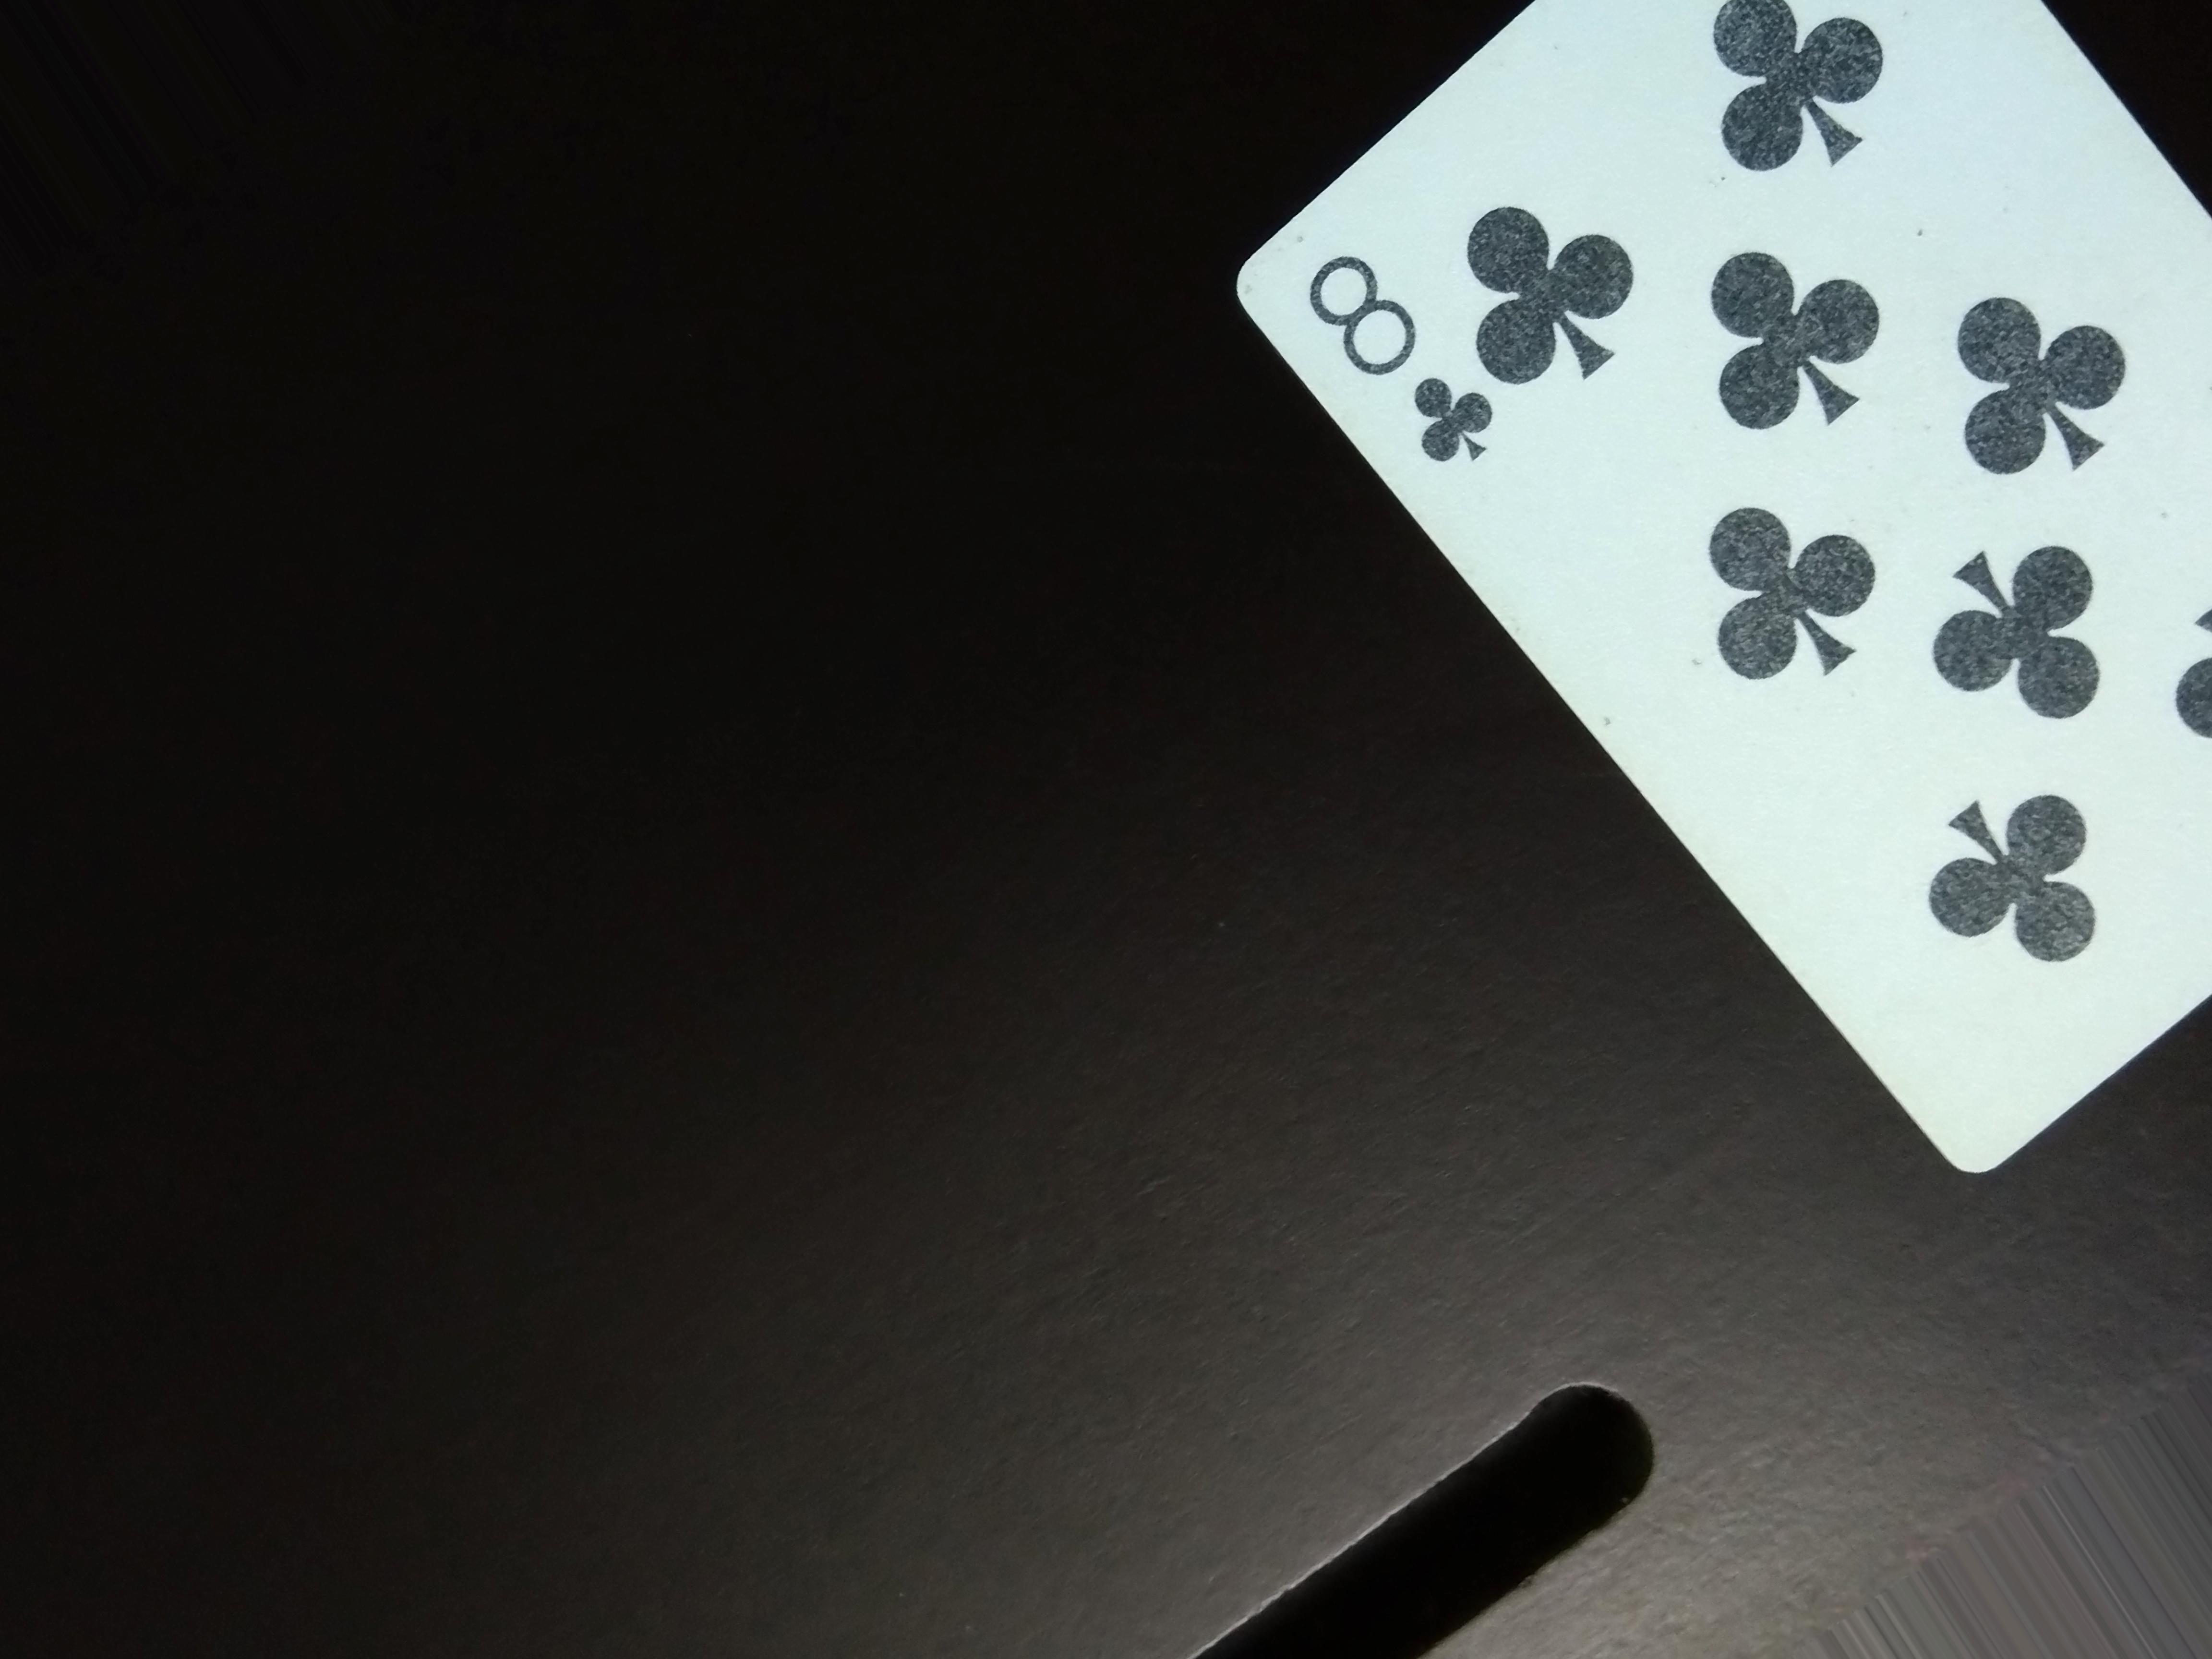8C: (1296, 234, 1536, 514)
